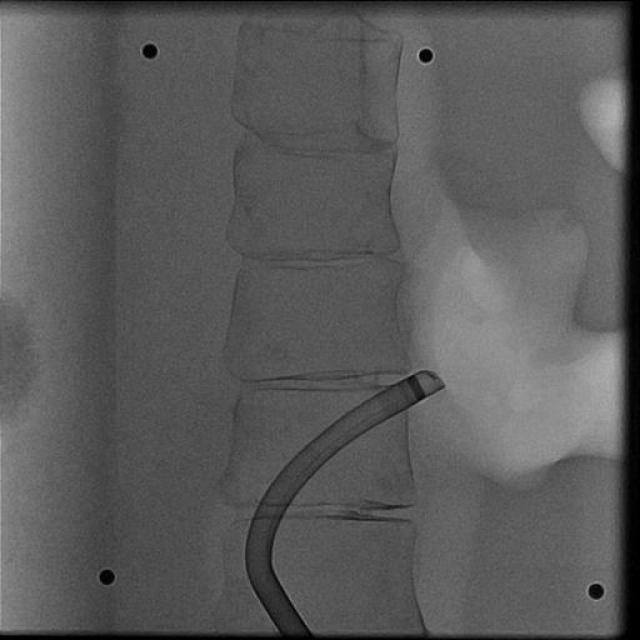bend: (245, 552, 272, 572)
entry: (278, 628, 312, 636)
marker: (404, 374, 426, 401)
tip: (423, 370, 448, 390)
